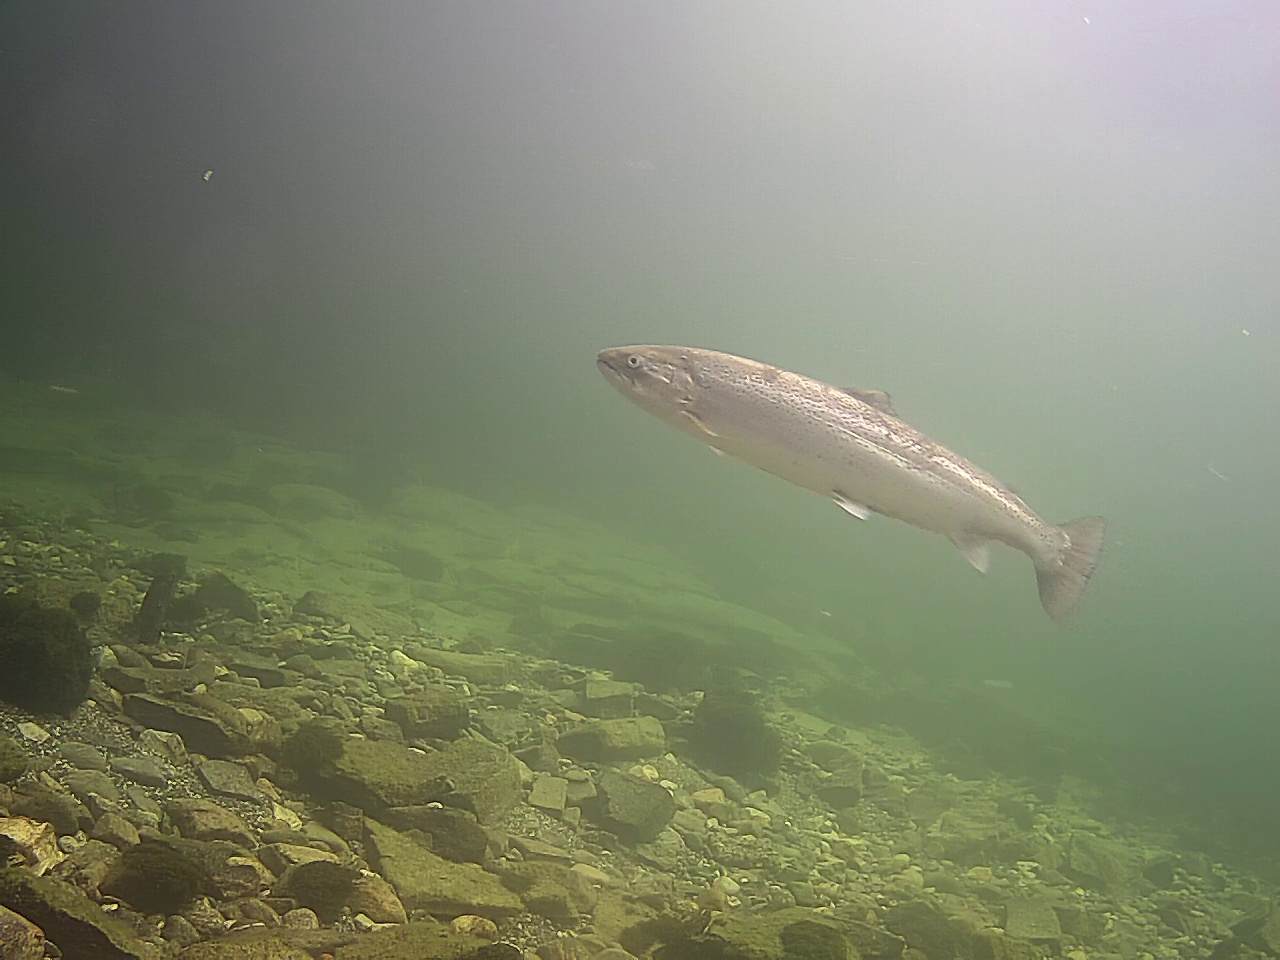salmon: (593, 341, 1111, 624)
